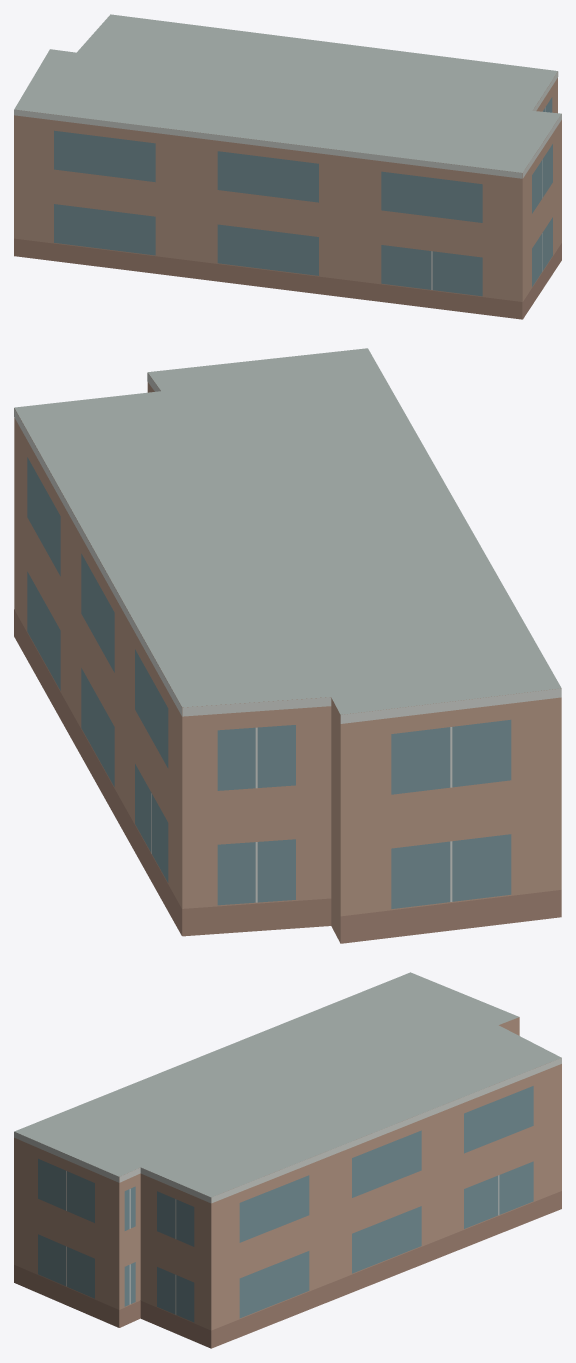
The model's file is survey-upis-32583445.glb.
The picture shows the model from 3 angles, top to bottom: view 1: azimuth 30°, elevation 25°; view 2: azimuth 150°, elevation 25°; view 3: azimuth 270°, elevation 25°; orthographic projection. The views are drawn at different scales.
Parts seen in each view (by area): view 1: survey-upis-32583445.tmp; view 2: survey-upis-32583445.tmp; view 3: survey-upis-32583445.tmp.
Part boxes in pixels (x1,y1,x2,y2): survey-upis-32583445.tmp: (14,14,561,319); survey-upis-32583445.tmp: (14,348,561,943); survey-upis-32583445.tmp: (14,972,561,1348).
Size of the model in its own units: 19.49 by 6.1 by 20.04.
